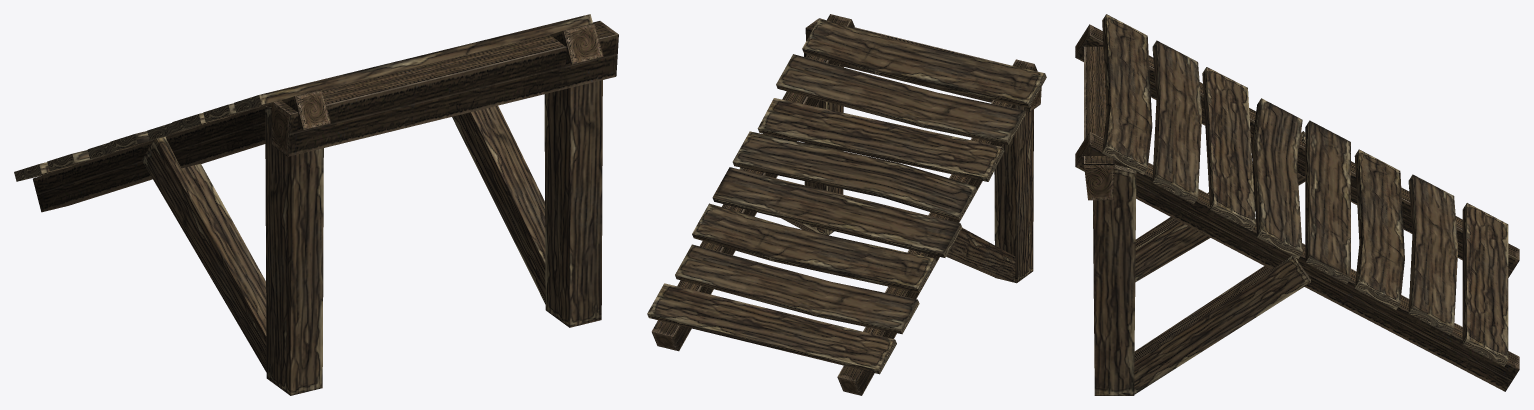
File: Wood_Ramp_02.fbx
3 renders of one model, left to right at view 1: azimuth 30°, elevation 25°; view 2: azimuth 150°, elevation 25°; view 3: azimuth 270°, elevation 25°, orthographic. The views are drawn at different scales.
Parts seen in each view (by area): view 1: Wood_Ramp_02; view 2: Wood_Ramp_02; view 3: Wood_Ramp_02.
Part boxes in pixels (box(x1,y1,x2,y2)): Wood_Ramp_02: box(14, 14, 618, 395); Wood_Ramp_02: box(647, 14, 1046, 395); Wood_Ramp_02: box(1075, 14, 1519, 395).
Bounding box in the file's own units: 3.97 × 3.3 × 5.37.
